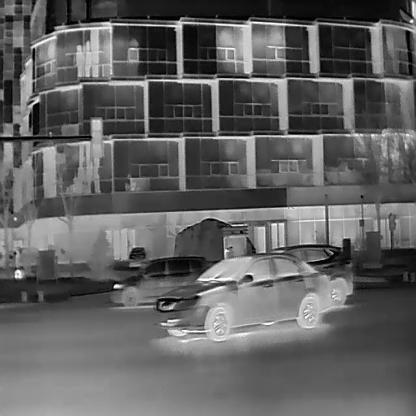car: (154, 254, 347, 343), (111, 253, 208, 313), (261, 244, 353, 307), (128, 245, 149, 270)
